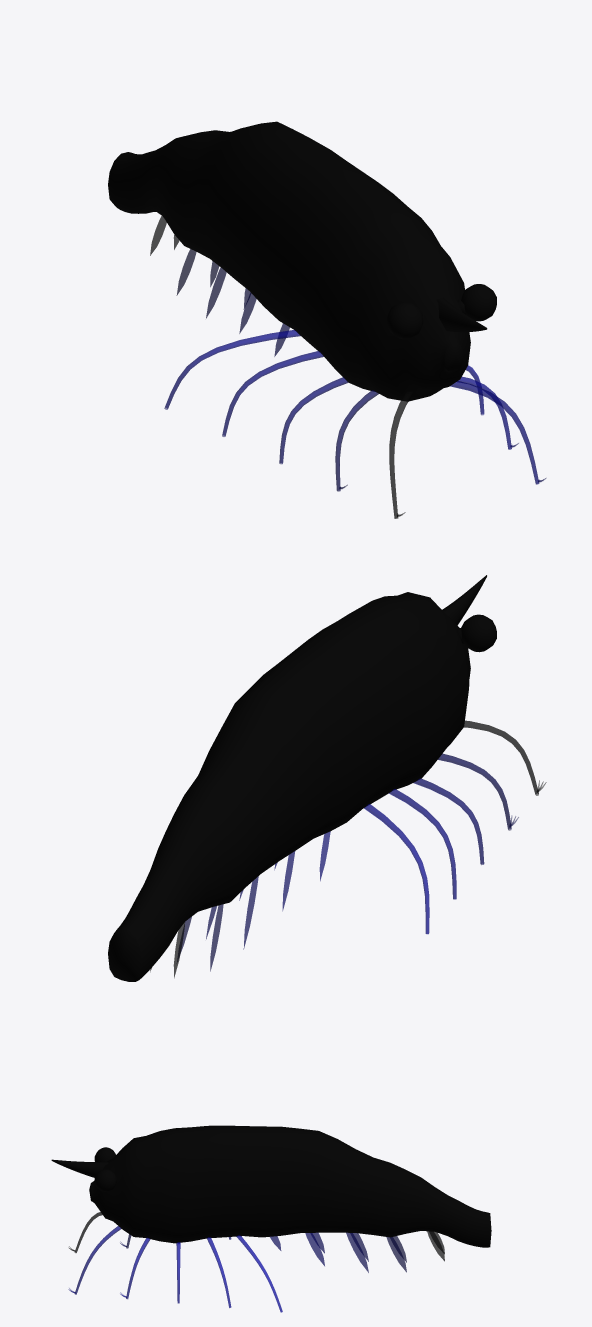
Rendered from cherry-shrimp.glb.
3 views of the same model, one above another, from view 1: azimuth 30°, elevation 25°; view 2: azimuth 150°, elevation 25°; view 3: azimuth 270°, elevation 25° (orthographic). The views are drawn at different scales.
Parts seen in each view (by area): view 1: cherry_body, cherry_eyeR, cherry_eyeL, cherry_leg4L, cherry_rostrum, cherry_leg0R, cherry_leg3L, cherry_leg0L, cherry_leg2L, cherry_leg1L; view 2: cherry_body, cherry_eyeL, cherry_leg4L, cherry_leg3L, cherry_leg2L, cherry_rostrum, cherry_leg1L, cherry_leg0L; view 3: cherry_body, cherry_rostrum, cherry_eyeR, cherry_leg4R.
Part boxes in pixels (x1,y1,x2,y2): cherry_body: (108,121,470,401); cherry_eyeR: (457,284,496,321); cherry_eyeL: (387,302,423,339); cherry_leg4L: (164,329,300,409); cherry_rostrum: (436,297,487,332); cherry_leg0R: (450,381,539,484); cherry_leg3L: (222,351,323,436); cherry_leg0L: (389,391,413,518); cherry_leg2L: (279,377,348,464); cherry_leg1L: (335,390,378,491); cherry_body: (108,592,470,981); cherry_eyeL: (457,614,496,652); cherry_leg4L: (364,804,429,934); cherry_leg3L: (389,789,456,899); cherry_leg2L: (413,778,484,864); cherry_rostrum: (442,575,486,625); cherry_leg1L: (438,753,511,830); cherry_leg0L: (464,720,538,795); cherry_body: (89,1125,491,1247); cherry_rostrum: (51,1159,108,1177); cherry_eyeR: (94,1169,116,1191); cherry_leg4R: (236,1235,282,1312).
Size of the model in its own units: 0.4221 by 0.4535 by 1.29.
